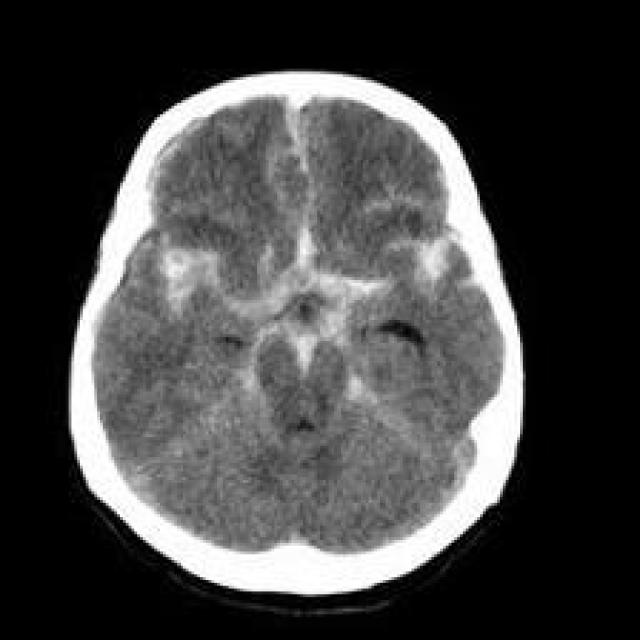no_tumor: (65, 65, 538, 616)
